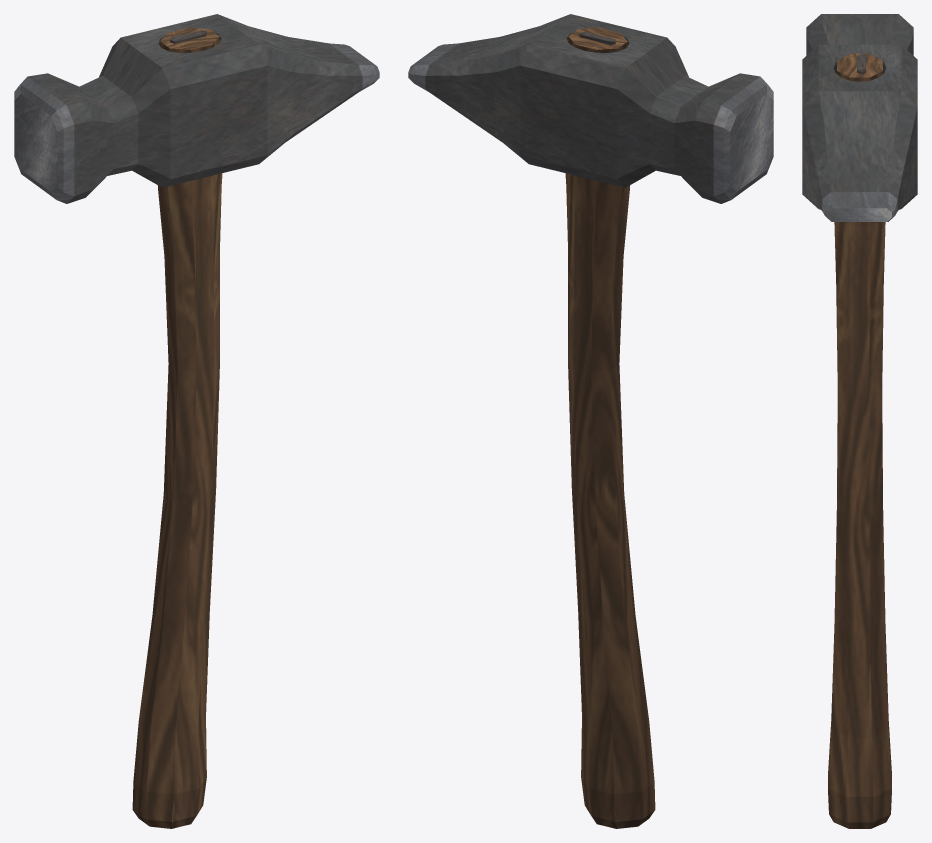
The model's file is Martelo-de-Ferreiro.glb.
3 renders of one model, left to right at view 1: azimuth 30°, elevation 25°; view 2: azimuth 150°, elevation 25°; view 3: azimuth 270°, elevation 25°, orthographic.
Parts seen in each view (by area): view 1: Cabeca de forja, Cabo de madeira; view 2: Cabeca de forja, Cabo de madeira; view 3: Cabo de madeira, Cabeca de forja.
Part boxes in pixels (x1=…): Cabeca de forja: x1=14, y1=14, x2=379, y2=203; Cabo de madeira: x1=132, y1=27, x2=222, y2=828; Cabeca de forja: x1=408, y1=14, x2=773, y2=203; Cabo de madeira: x1=565, y1=27, x2=655, y2=828; Cabo de madeira: x1=828, y1=53, x2=891, y2=828; Cabeca de forja: x1=802, y1=14, x2=917, y2=221.
Size of the model in its own units: 0.149 by 0.3374 by 0.046.
5 materials, 5 textured.
